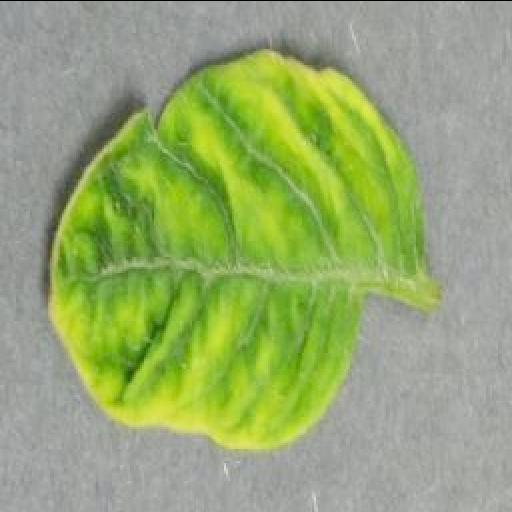disease_tomato: (46, 42, 430, 452)
